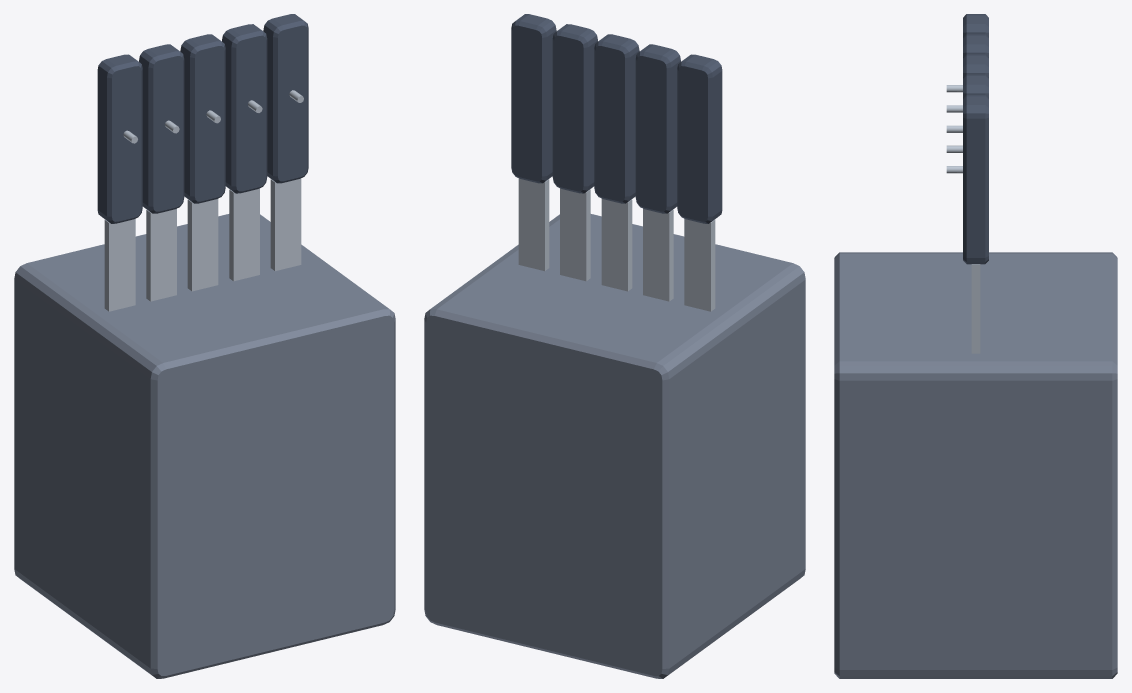
Rendered from knife-block-lite.glb.
3 renders of one model, left to right at view 1: azimuth 30°, elevation 25°; view 2: azimuth 150°, elevation 25°; view 3: azimuth 270°, elevation 25°, orthographic.
Visible parts, largest first — view 1: body, dark, light; view 2: body, dark, light; view 3: body, dark, light.
Boxes of the visible parts, x1,y1,x2,y2 form: body: [14, 214, 395, 678]; dark: [97, 14, 308, 223]; light: [104, 90, 303, 311]; body: [424, 214, 805, 678]; dark: [511, 14, 722, 223]; light: [518, 178, 715, 311]; body: [834, 252, 1117, 678]; dark: [963, 14, 988, 264]; light: [946, 85, 980, 353].
Size of the model in its own units: 0.13 by 0.285 by 0.13.
